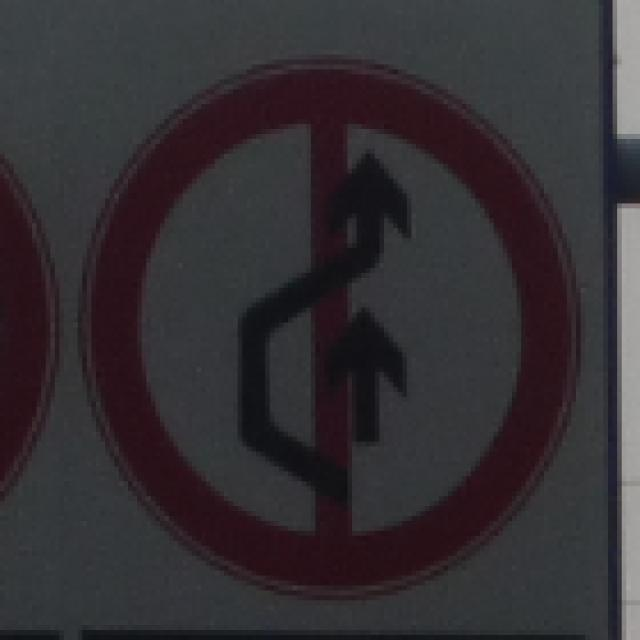Not that Direction: (88, 53, 574, 585)
